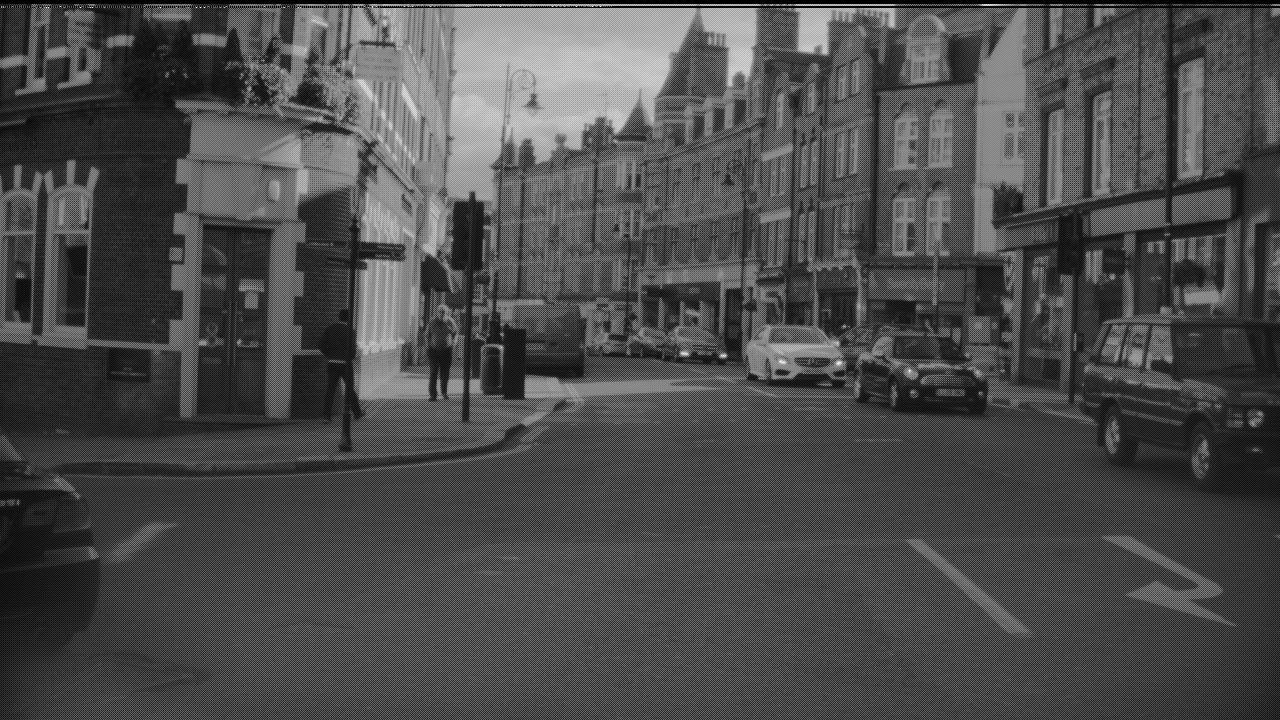pole: (492, 66, 509, 321)
